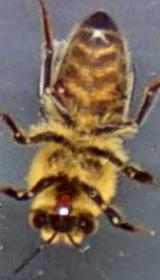varroa_mite: (46, 73, 76, 102)
